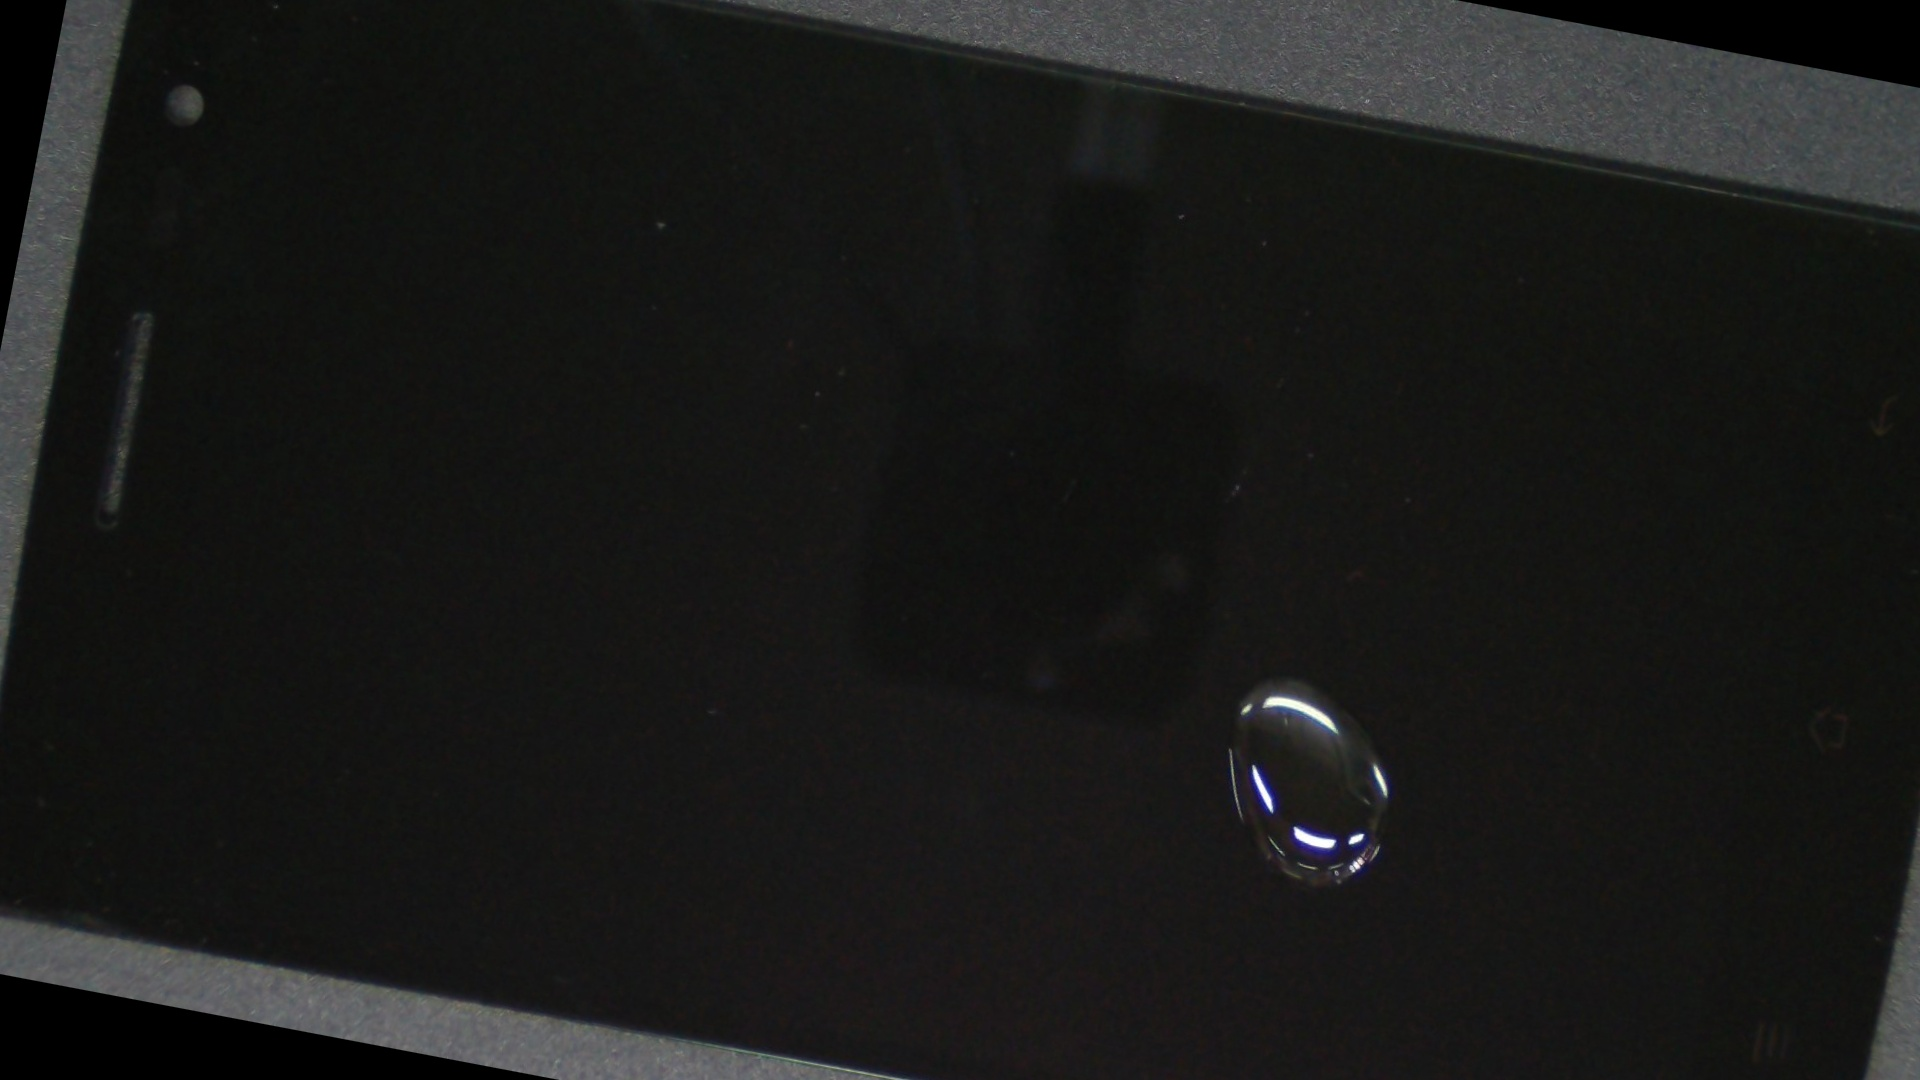oil: (574, 212, 1920, 1080)
